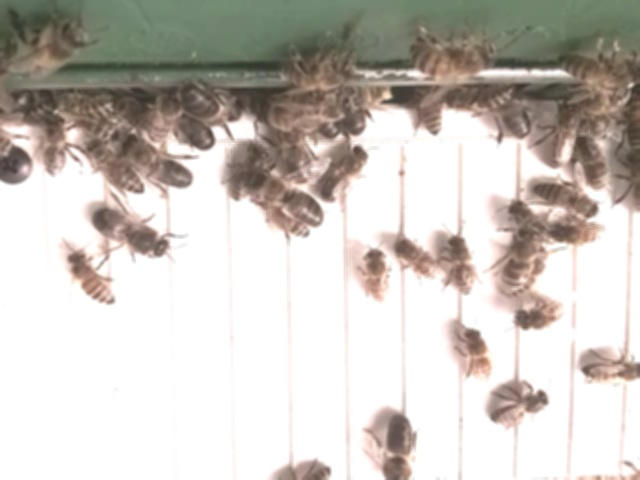Drone: (90, 203, 173, 262), (257, 174, 328, 232), (126, 139, 198, 195), (381, 410, 420, 480), (172, 108, 218, 155)
Worker: (88, 141, 146, 201), (66, 249, 121, 311), (319, 143, 370, 209), (530, 177, 603, 221), (500, 223, 542, 297), (489, 389, 555, 432), (390, 233, 444, 282), (227, 140, 266, 206), (547, 100, 580, 174), (510, 295, 570, 335), (461, 325, 498, 388), (578, 354, 640, 391), (445, 232, 478, 300), (39, 113, 70, 185), (576, 134, 612, 194), (537, 221, 611, 250), (362, 240, 392, 309)
